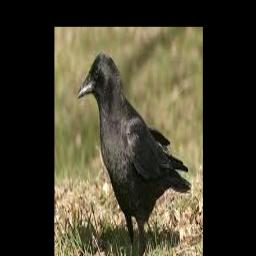Crow: (78, 51, 190, 256)
